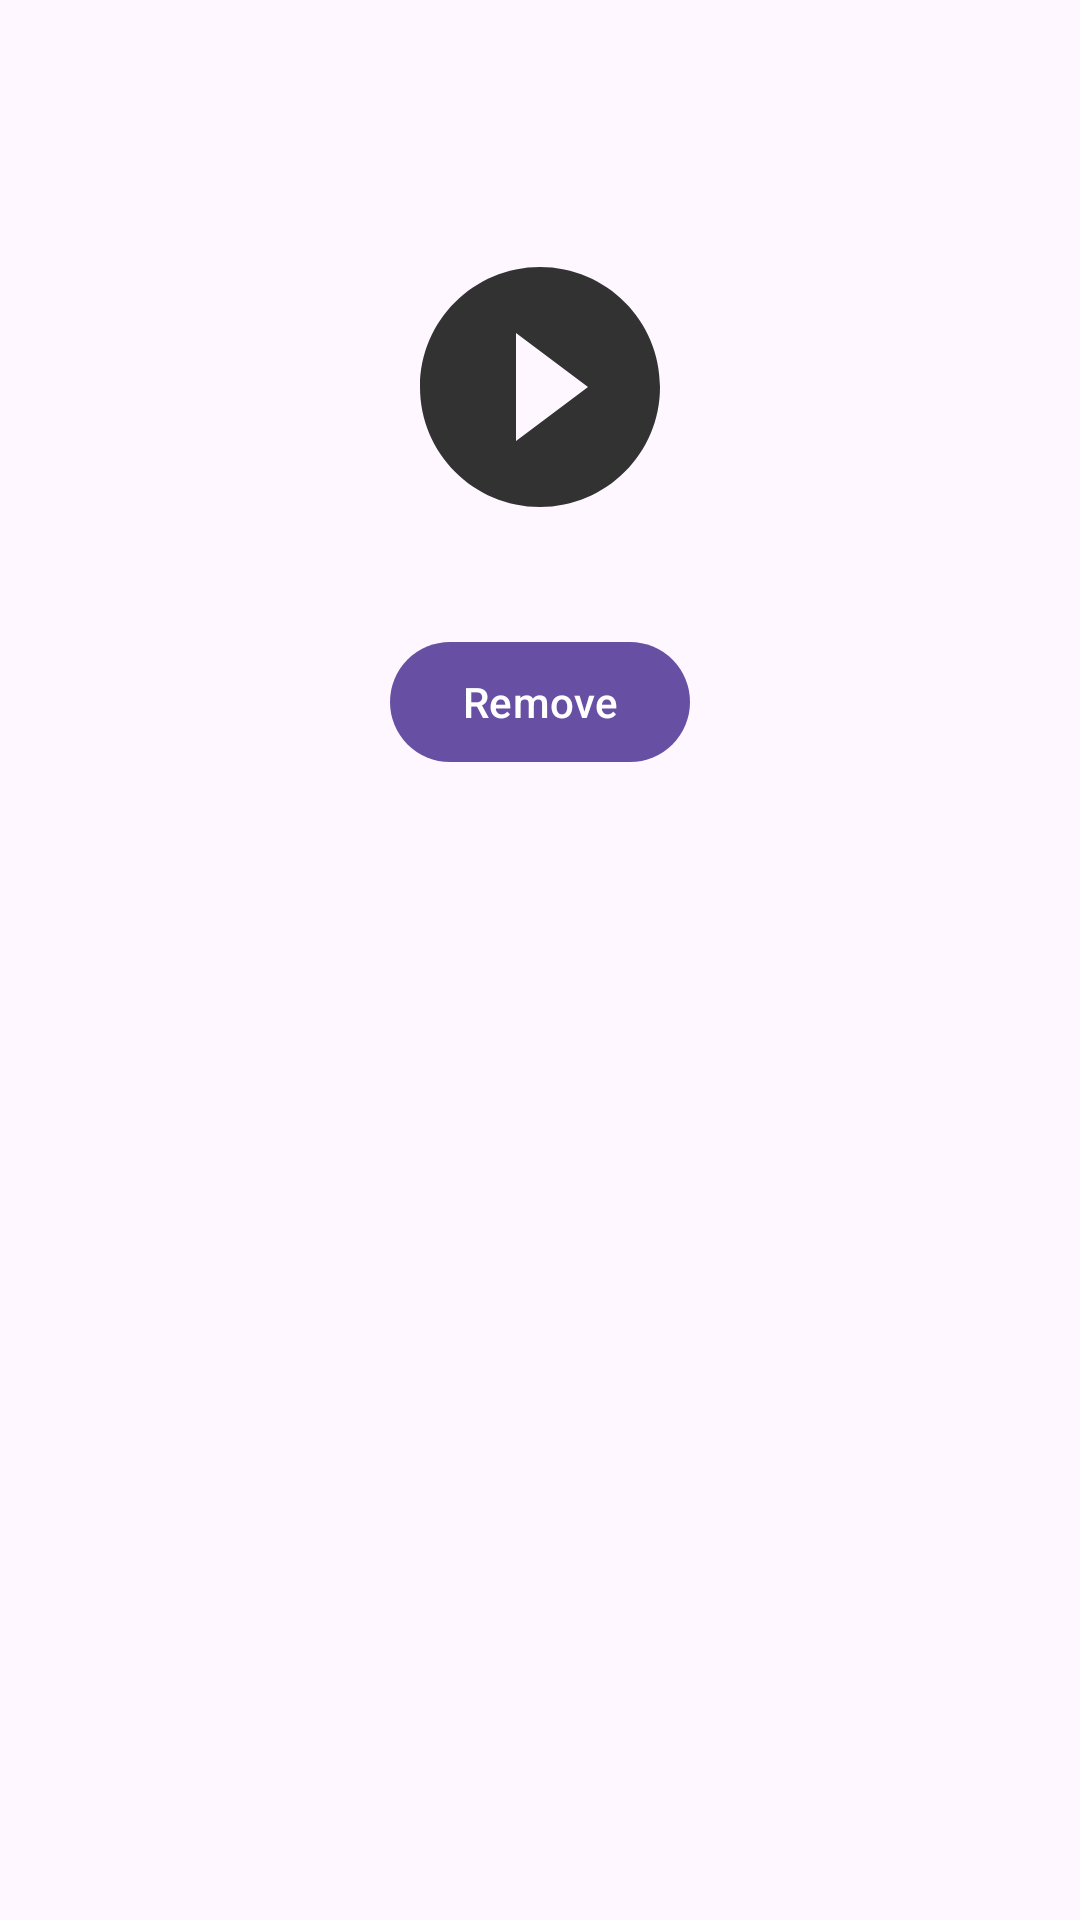

Locate icon controls on the screen. Image size 1080*1920, boxes as (x1,y1,x2,y2).
Image Play Button: (420,267,660,507)
